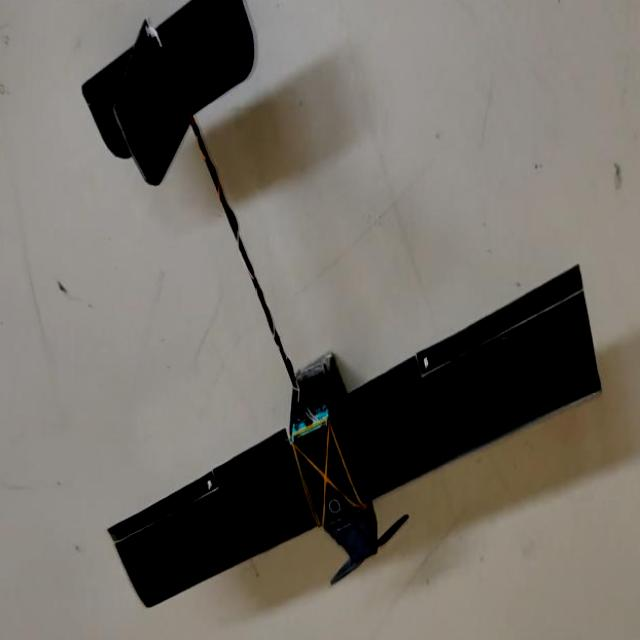plane: (80, 0, 602, 611)
